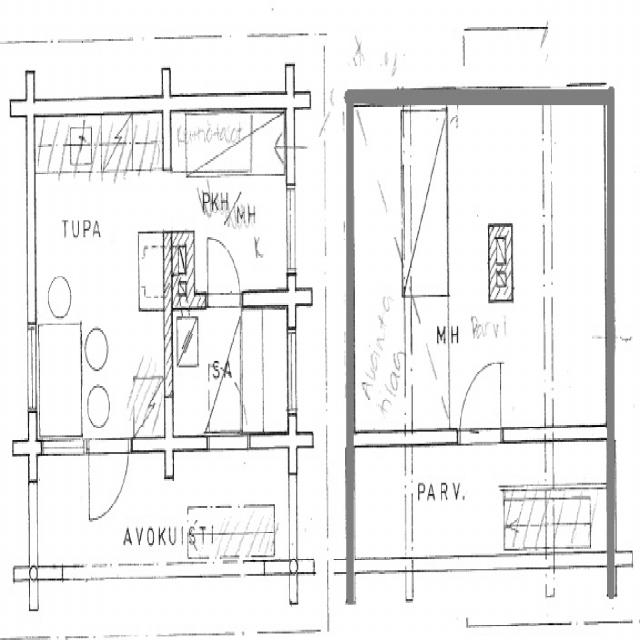door: (459, 352, 501, 446), (87, 434, 128, 523), (208, 360, 248, 448), (208, 234, 240, 308)
